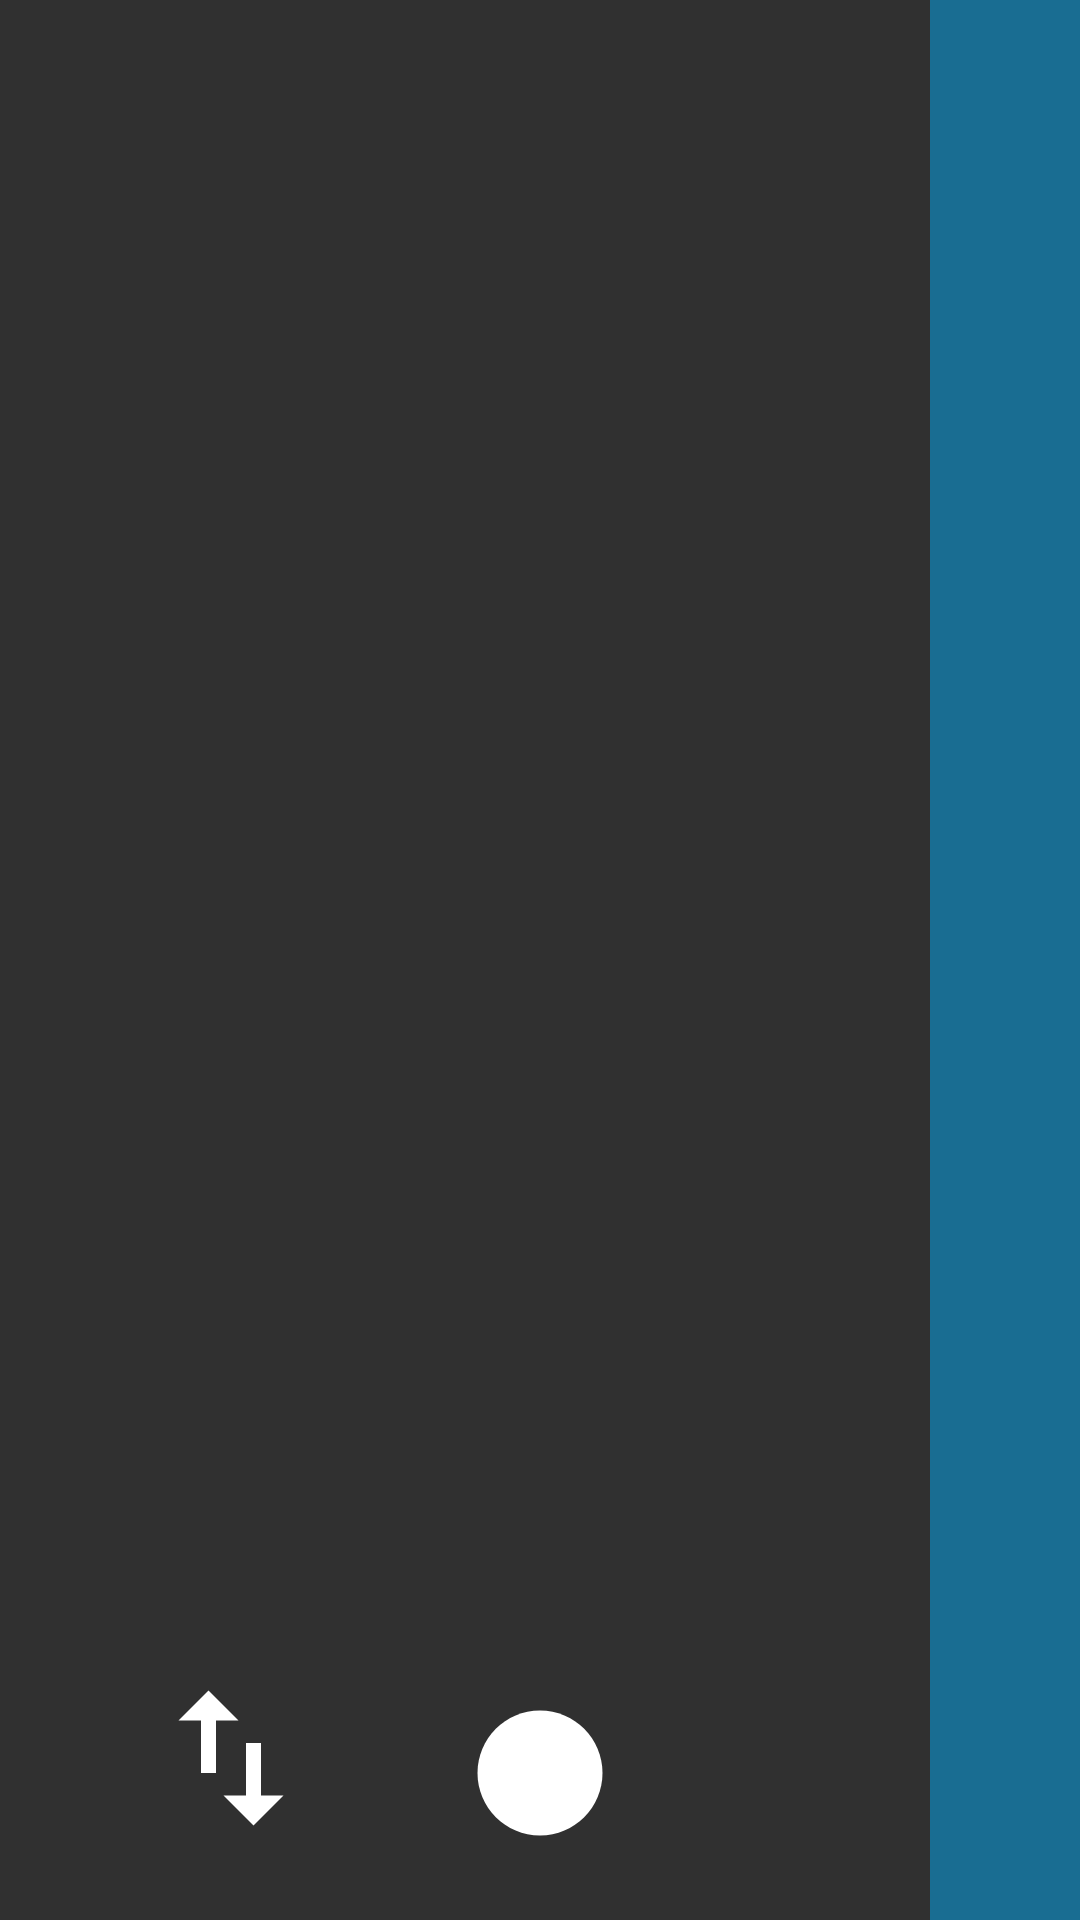

Icons on this 1080w x 1920h Android screen, each with the point to tap as [x,y]:
swap: [231,1758]
